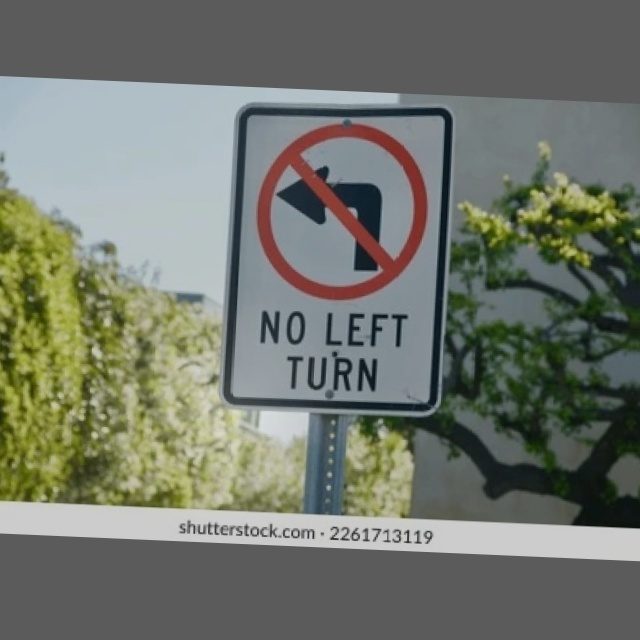Left_Turn_Prohibited: (246, 117, 435, 309)
